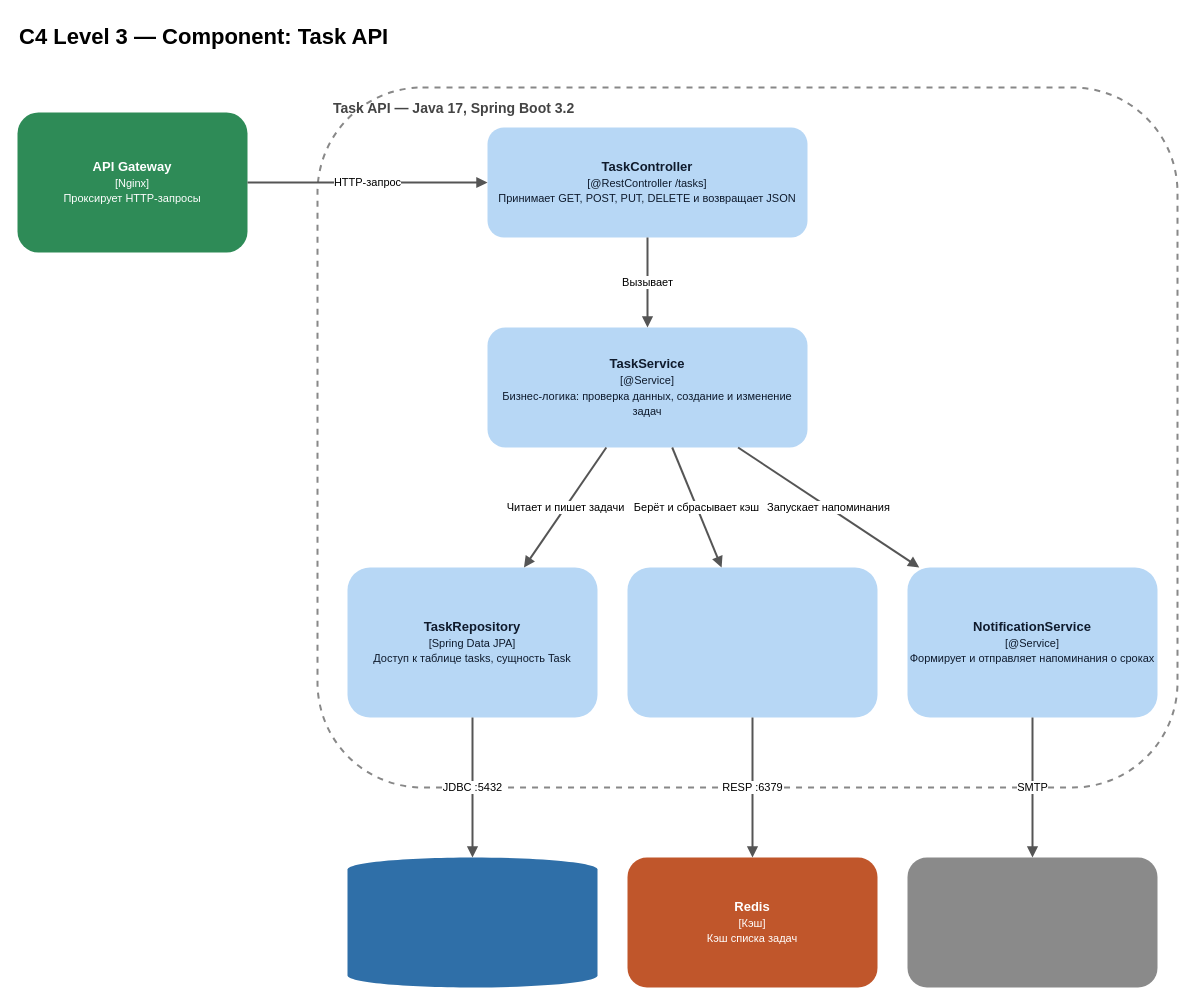
The diagram is 1195 pixels wide and 1004 high, and some of its shapes have lost their labels. The box of each missing label's shape, as (x1, y1, x2, y2) in pixels:
Email-сервис [Внешняя система] Отправка писем: (907, 857, 1157, 987)
PostgreSQL [PostgreSQL 16] Таблица tasks: (347, 857, 597, 987)
TaskCache [Spring Cache / RedisTemplate] Кэш списка задач, сброс при изменении: (627, 567, 877, 717)
